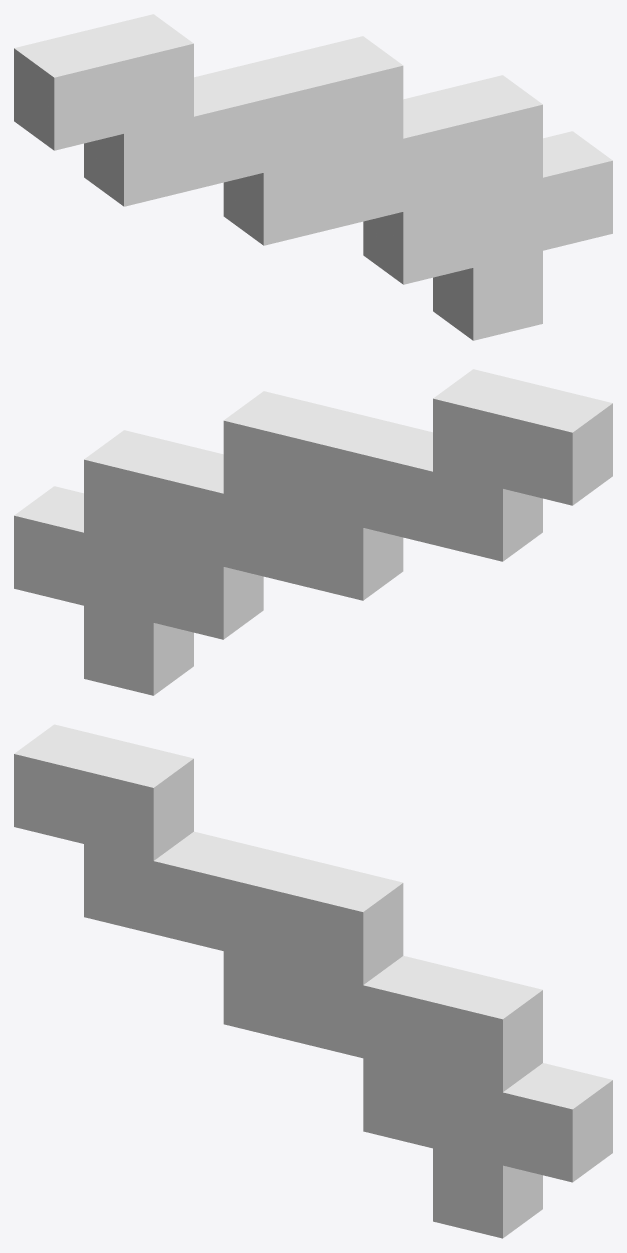
File: Lightning-Large-White.vox.obj
3 renders of one model, top to bottom at view 1: azimuth 30°, elevation 25°; view 2: azimuth 150°, elevation 25°; view 3: azimuth 330°, elevation 25°, orthographic.
Bounding box in the file's own units: 0.8 × 0.5 × 0.1.
Materials: 1 (1 with a texture image).
